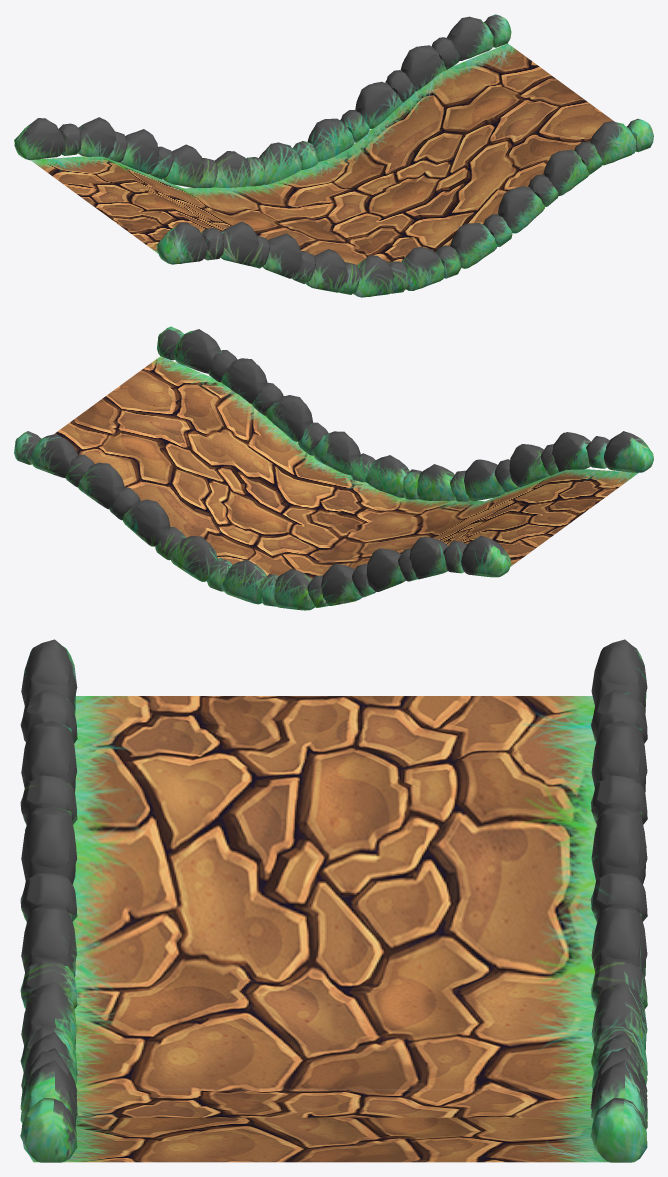
The model's file is wall_hercules_down_funkar.fbx.
3 renders of one model, top to bottom at view 1: azimuth 30°, elevation 25°; view 2: azimuth 150°, elevation 25°; view 3: azimuth 270°, elevation 25°, orthographic. The views are drawn at different scales.
Visible parts, largest first — view 1: polySurface1330; view 2: polySurface1330; view 3: polySurface1330.
Part boxes in pixels (left/top/right/bottom): polySurface1330: left=14, top=14, right=653, bottom=297; polySurface1330: left=14, top=326, right=653, bottom=610; polySurface1330: left=20, top=639, right=647, bottom=1162.
Bounding box in the file's own units: 185 × 43.21 × 102.
